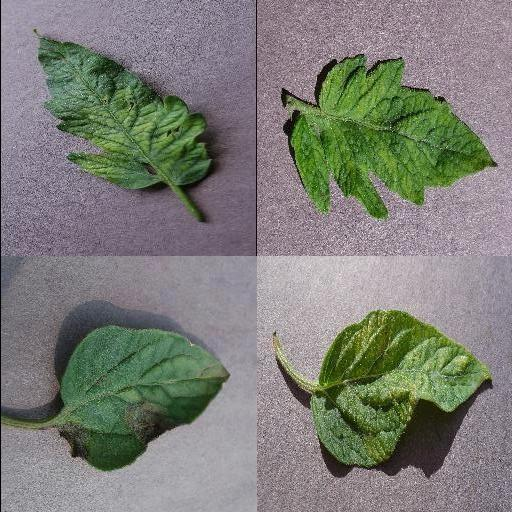Late Blight: (57, 325, 231, 471)
Mosaic Virus: (289, 52, 499, 220), (37, 37, 213, 191)
Spider Mites: (310, 309, 490, 467)
